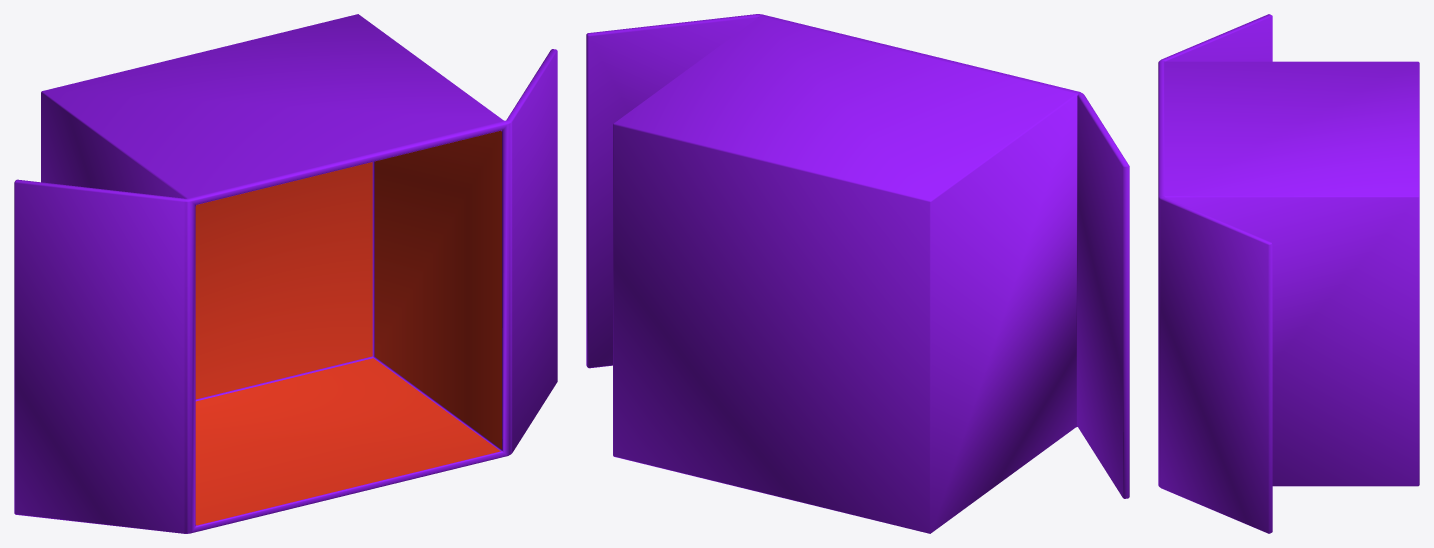
3 renders of one model, left to right at view 1: azimuth 30°, elevation 25°; view 2: azimuth 150°, elevation 25°; view 3: azimuth 270°, elevation 25°, orthographic. The views are drawn at different scales.
Parts seen in each view (by area): view 1: BuffoonBox; view 2: BuffoonBox; view 3: BuffoonBox.
Boxes of the visible parts, x1,y1,x2,y2 form: BuffoonBox: (14,14,557,533); BuffoonBox: (586,14,1129,533); BuffoonBox: (1158,14,1419,533).
Bounding box in the file's own units: 0.4424 × 0.26 × 0.2121.
